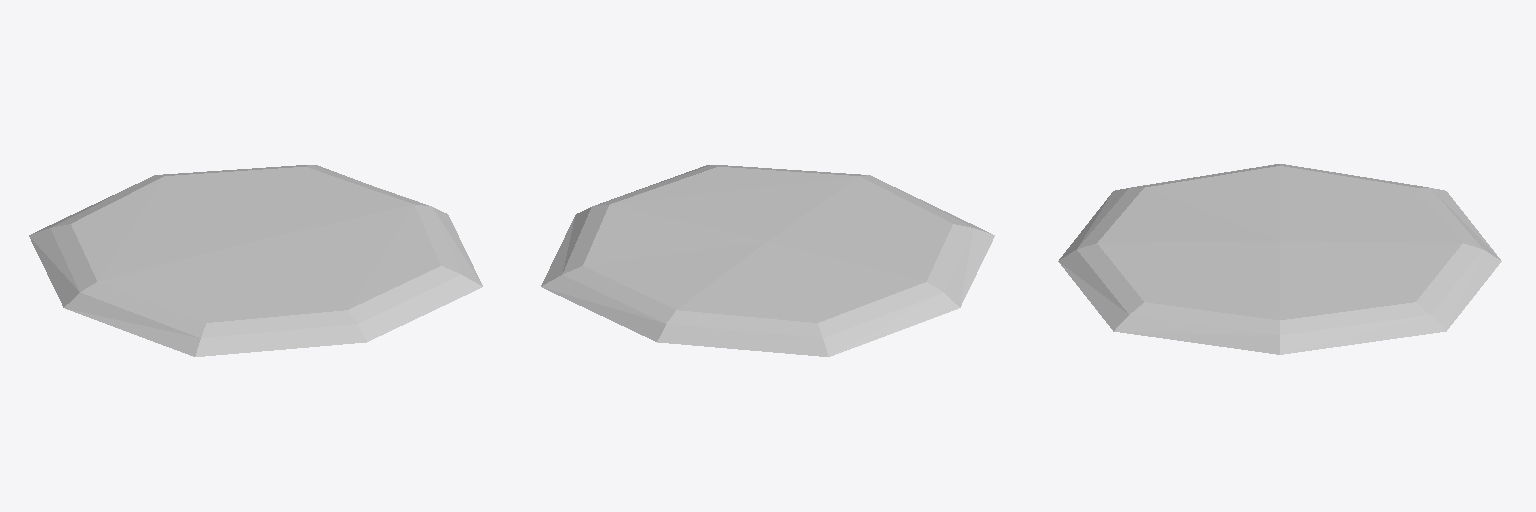
Rendered from jump_pad.obj.
The picture shows the model from 3 angles: view 1: azimuth 30°, elevation 25°; view 2: azimuth 150°, elevation 25°; view 3: azimuth 270°, elevation 25°; orthographic projection.
Parts seen in each view (by area): view 1: pCube1; view 2: pCube1; view 3: pCube1.
Boxes of the visible parts, <box> form: pCube1: <box>29,165,482,356</box>; pCube1: <box>541,165,994,356</box>; pCube1: <box>1058,164,1501,354</box>.
Size of the model in its own units: 20.47 by 1.53 by 20.47.